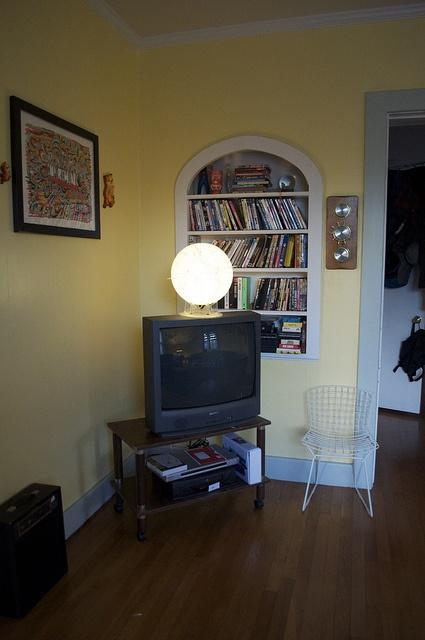AIO PC-Monitor-TV: (151, 313, 261, 432)
